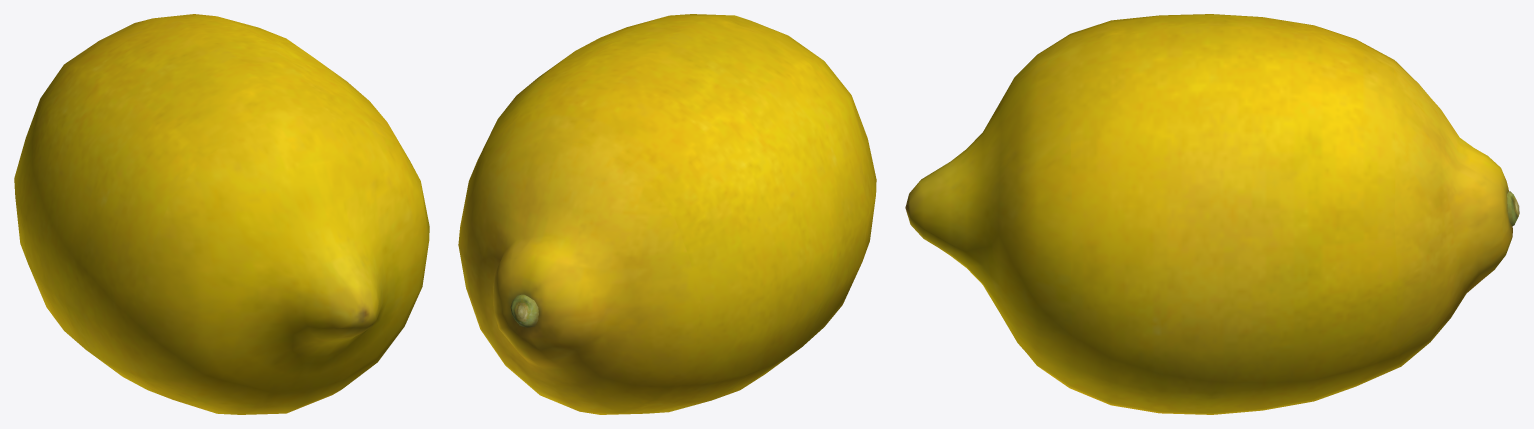
Rendered from Lemon.obj.
3 views of the same model, side by side, from view 1: azimuth 30°, elevation 25°; view 2: azimuth 150°, elevation 25°; view 3: azimuth 270°, elevation 25° (orthographic). The views are drawn at different scales.
Visible parts, largest first — view 1: lemon__body_m; view 2: lemon__body_m; view 3: lemon__body_m.
Part boxes in pixels (x1,y1,x2,y2): lemon__body_m: [14, 14, 429, 414]; lemon__body_m: [458, 14, 876, 414]; lemon__body_m: [905, 14, 1519, 414].
Size of the model in its own units: 59.78 by 61.11 by 92.53.
